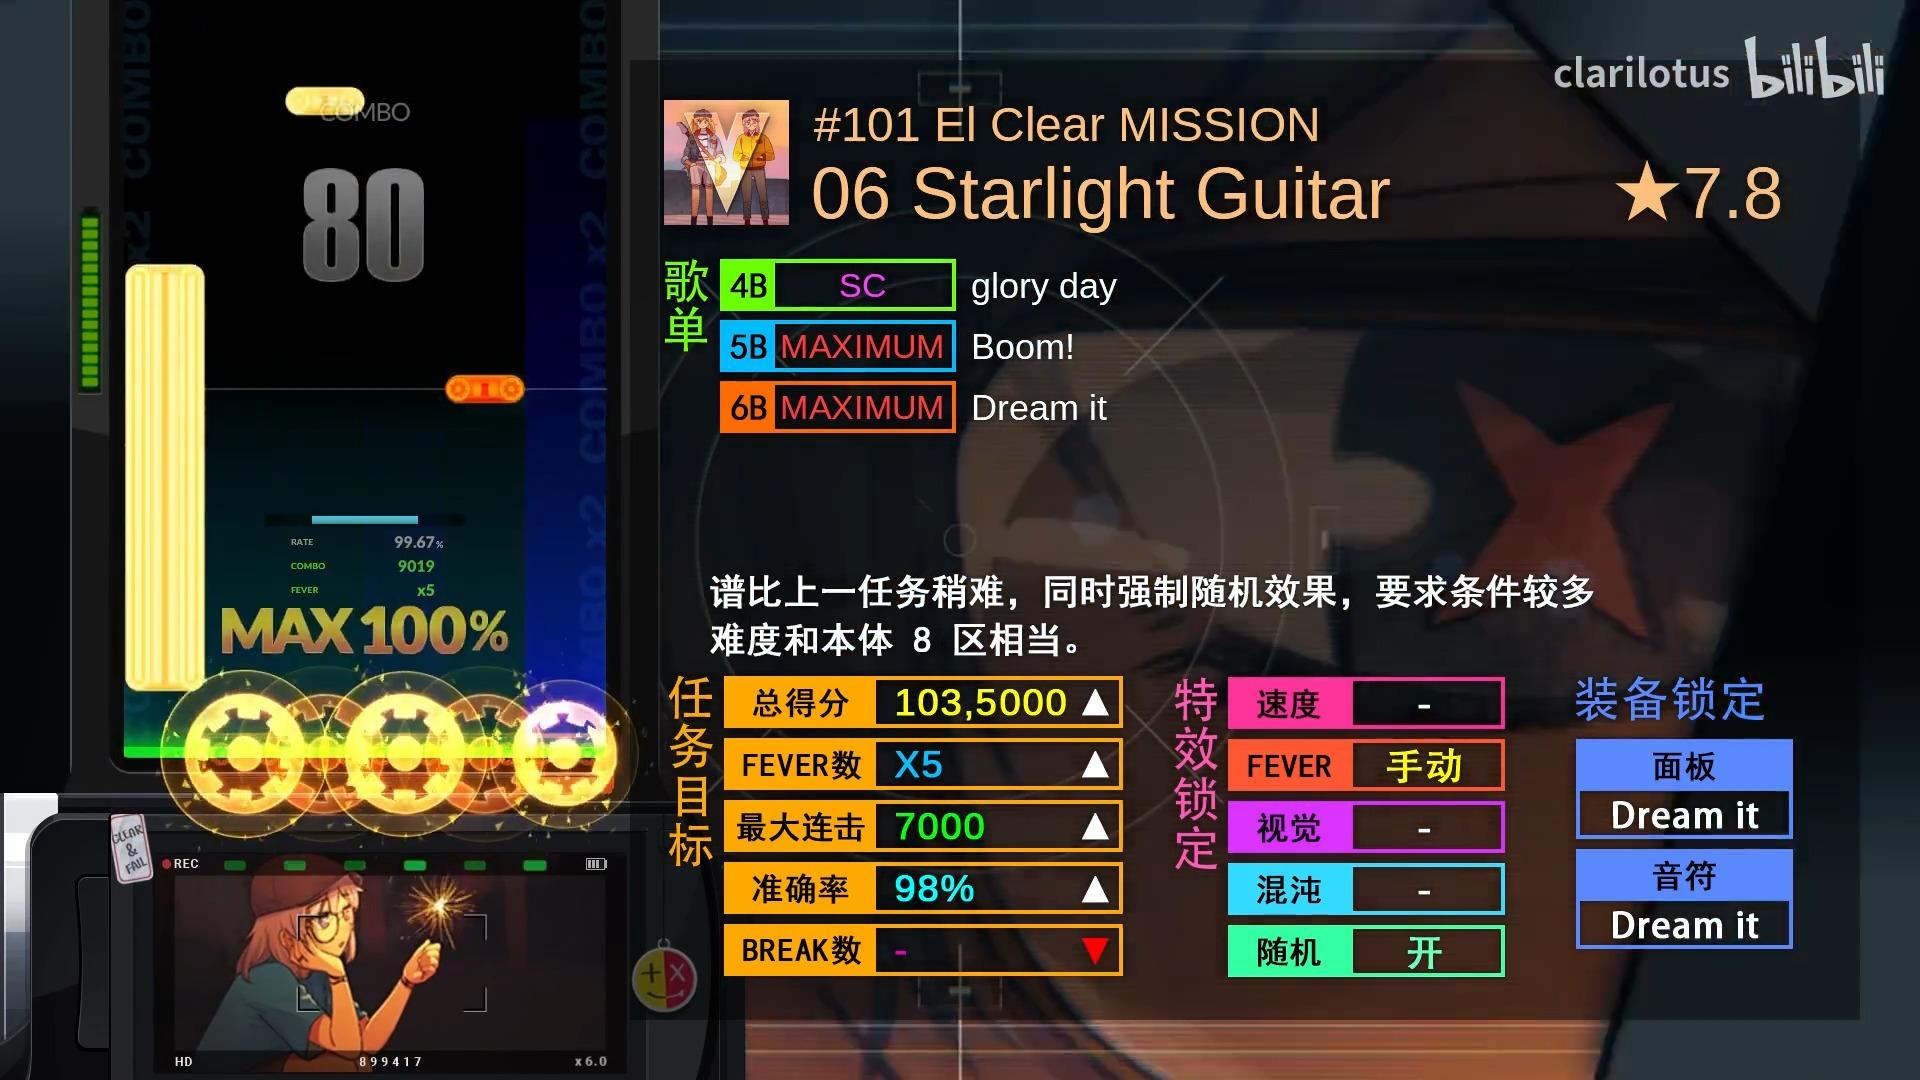hold-end: (125, 262, 204, 291)
hold-start: (124, 663, 204, 692)
note: (446, 373, 526, 405), (285, 86, 365, 115)
